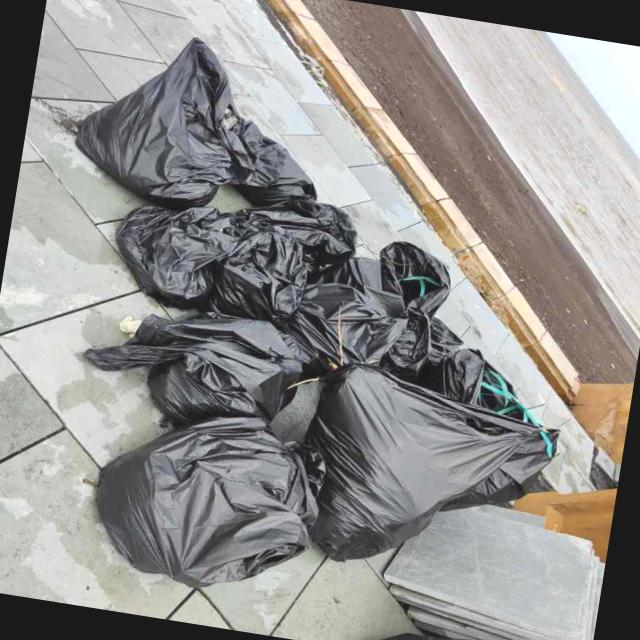tui_ni_long: (306, 365, 550, 562), (75, 38, 316, 210), (96, 418, 317, 589), (118, 201, 356, 323), (84, 315, 310, 426), (116, 206, 239, 309), (285, 284, 408, 366), (380, 242, 451, 382), (416, 348, 541, 427)
